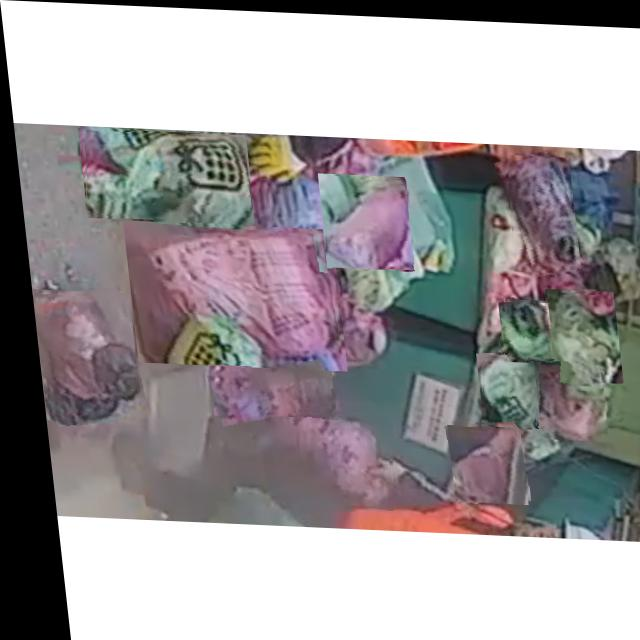general_trashbag: (82, 132, 247, 221), (149, 183, 246, 276), (545, 287, 613, 377), (474, 351, 527, 422), (501, 296, 551, 358)
other_trashbag: (118, 220, 331, 361), (31, 295, 130, 424), (288, 408, 382, 501), (505, 151, 573, 268), (322, 178, 405, 265), (204, 372, 326, 419), (527, 355, 597, 435), (441, 422, 507, 499)
